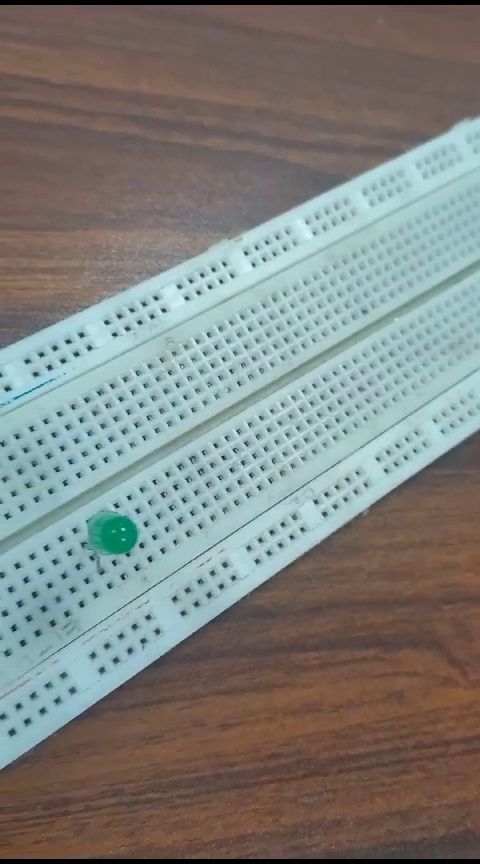LED: (86, 501, 146, 559)
